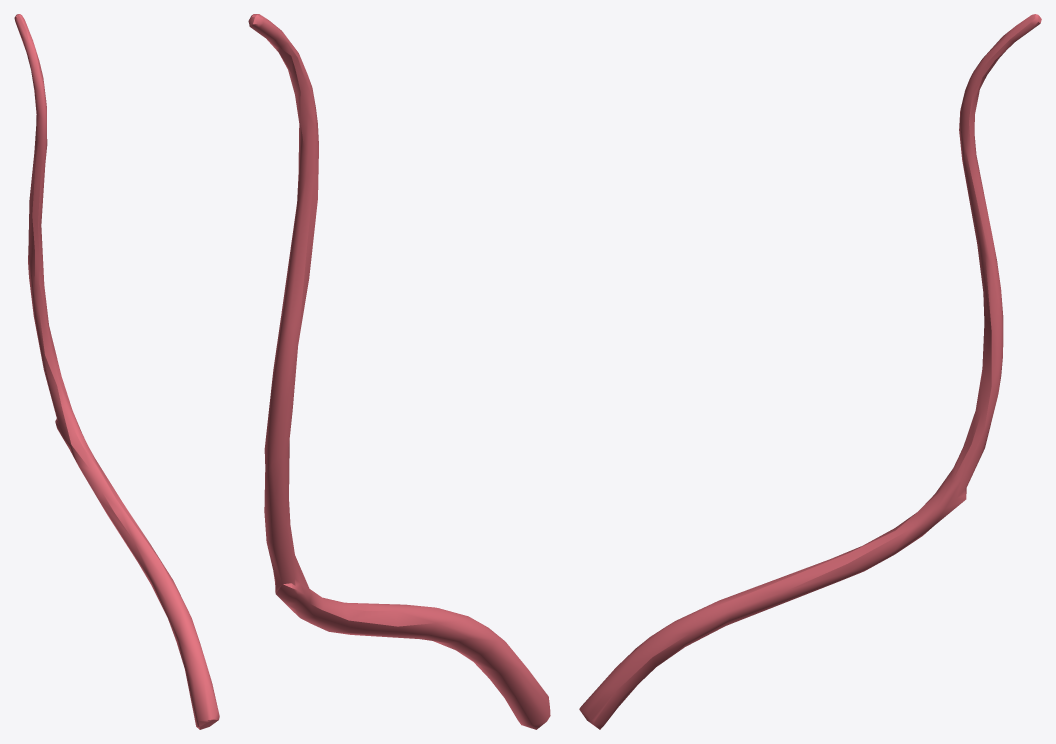
The model's file is fma50686_fj5150.glb.
3 views of the same model, side by side, from view 1: azimuth 30°, elevation 25°; view 2: azimuth 150°, elevation 25°; view 3: azimuth 270°, elevation 25° (orthographic). The views are drawn at different scales.
Visible parts, largest first — view 1: FMA50686_FJ5150; view 2: FMA50686_FJ5150; view 3: FMA50686_FJ5150.
Boxes of the visible parts, x1=… form: FMA50686_FJ5150: x1=14, y1=14, x2=219, y2=729; FMA50686_FJ5150: x1=248, y1=14, x2=550, y2=729; FMA50686_FJ5150: x1=579, y1=14, x2=1041, y2=729.
Bounding box in the file's own units: 0.00168 × 0.0234 × 0.0138.
